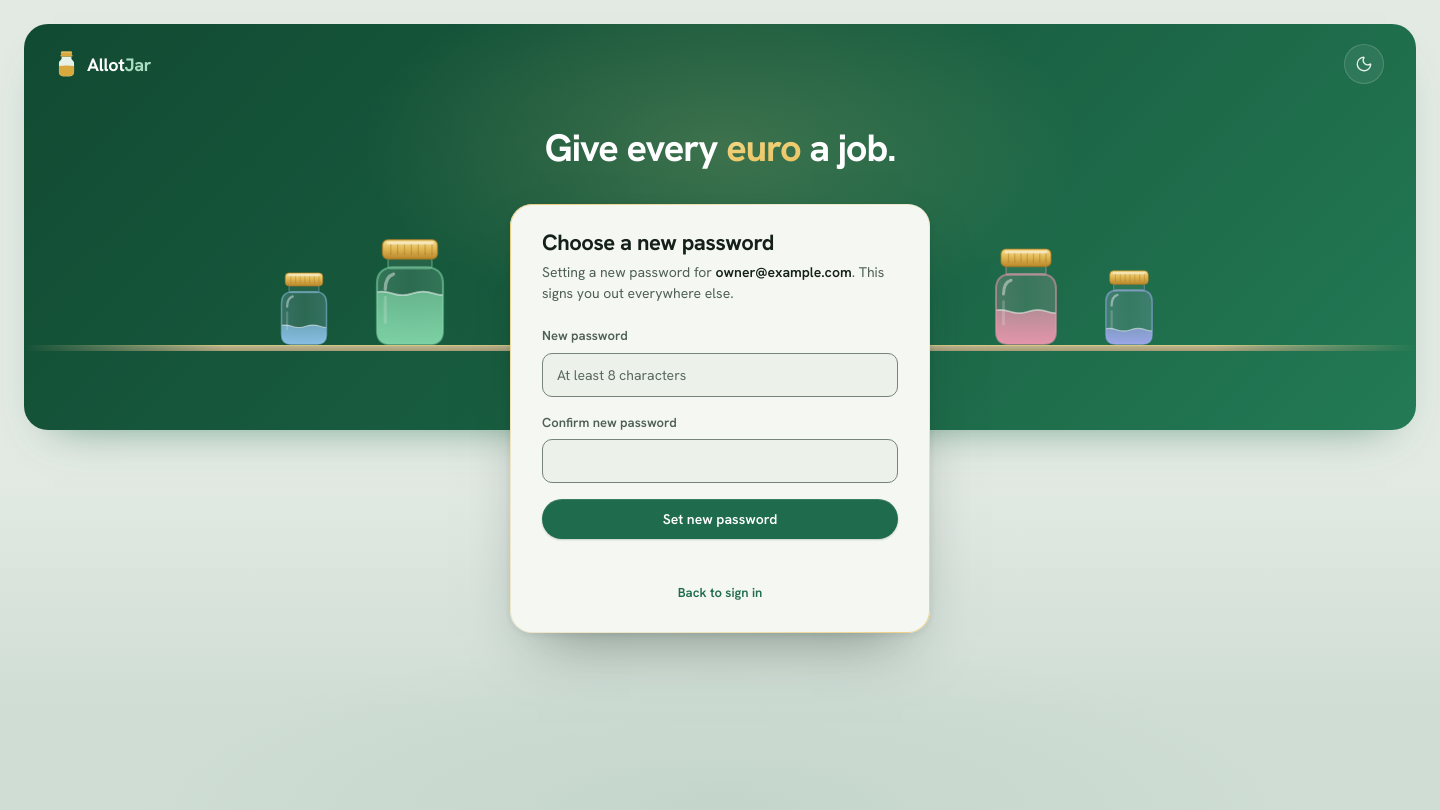
ResetPasswordPage (catalog REG-063/REG-065) › REG-065: weak-password server errors surface without the new-link button
The image size is (1440, 810).
Type "Aa1-weak" into the password field labelled "New password" at (720, 375), box [542,353,898,397]
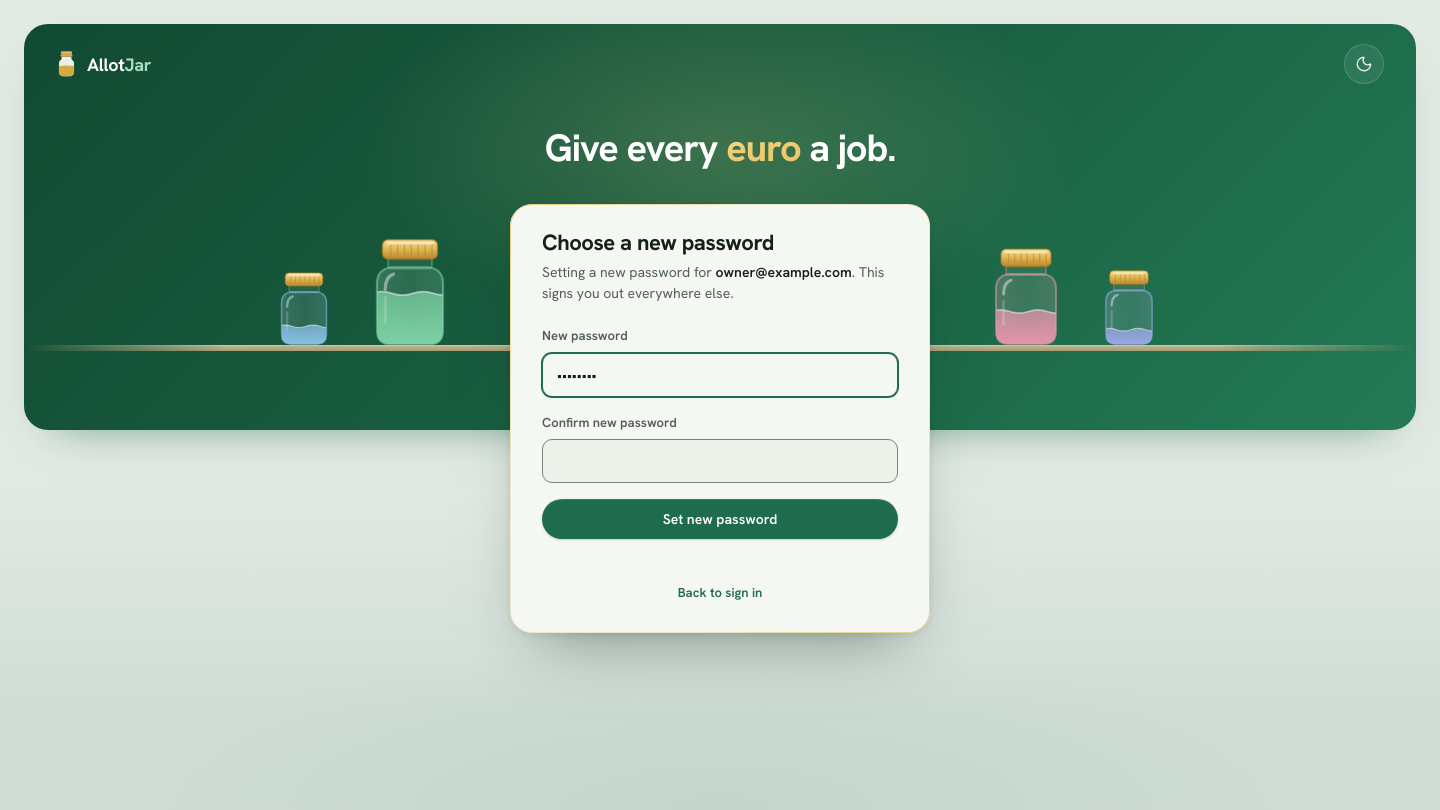
Type "Aa1-weak" into the password field labelled "Confirm new password" at (720, 461), box [542,439,898,483]
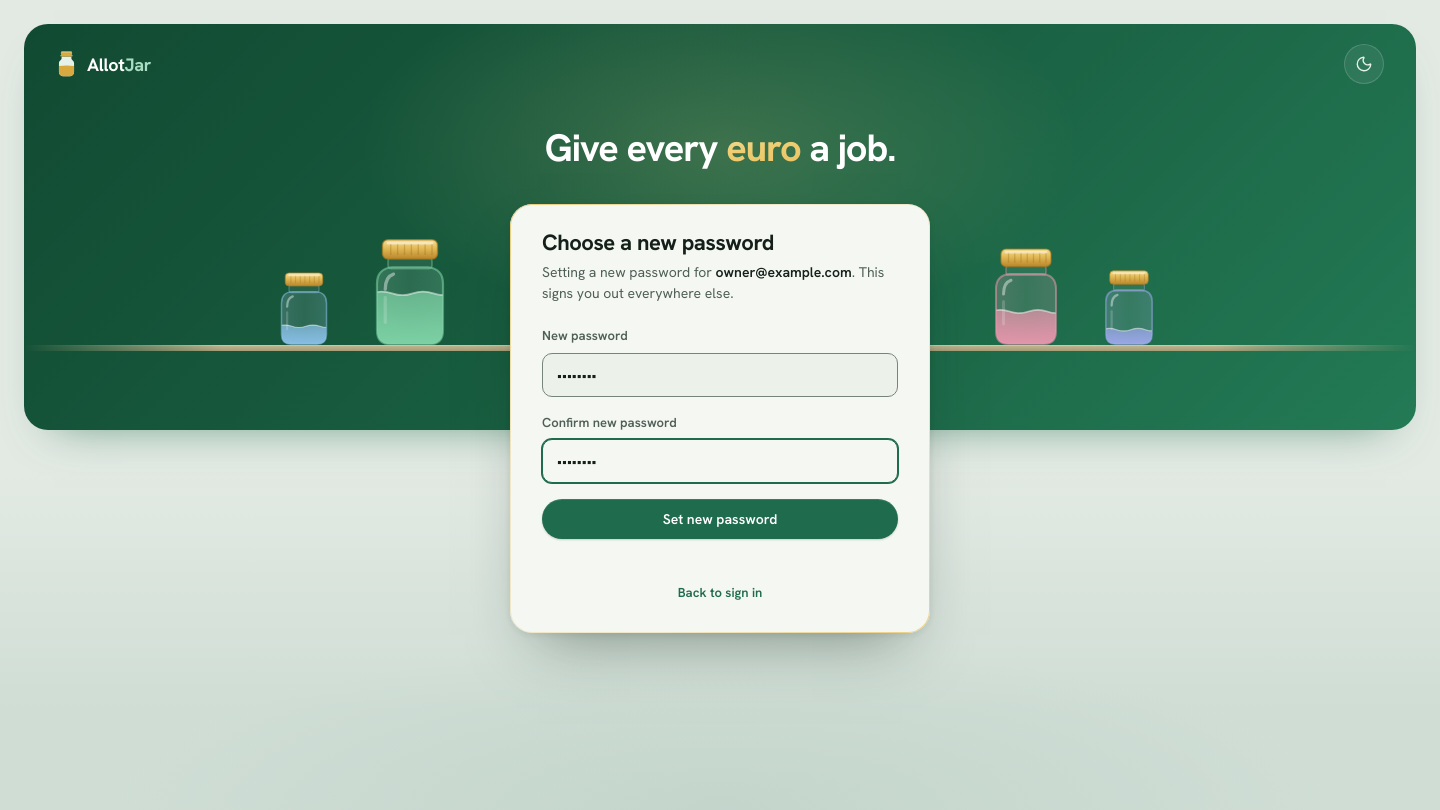
Click the button "Set new password" at (720, 519), box [542,499,898,539]
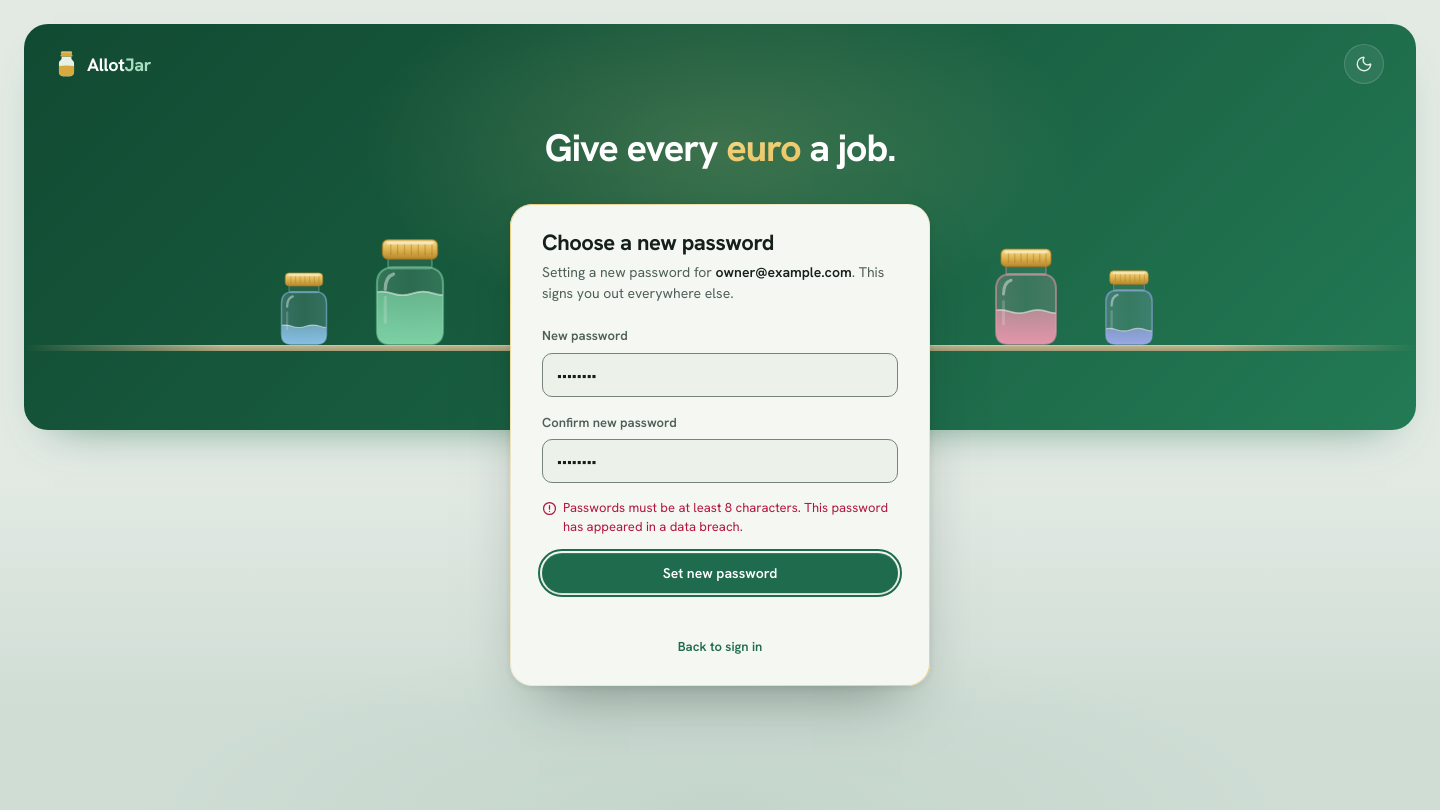
Now the message shows "at least 8 characters", box [563,499,888,535]
Now the message shows "data breach", box [563,499,888,535]
